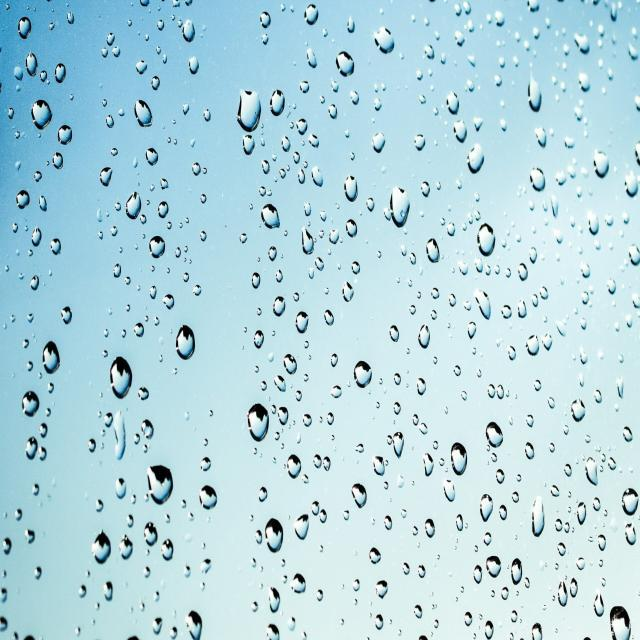raindrop: (144, 462, 178, 510), (109, 353, 134, 404), (172, 321, 200, 366), (235, 84, 261, 132), (246, 398, 270, 450), (448, 433, 471, 486), (388, 182, 412, 231), (608, 602, 638, 640), (262, 512, 284, 560), (528, 492, 548, 541), (370, 21, 396, 58), (112, 407, 128, 467), (30, 95, 54, 134), (42, 335, 64, 377), (475, 218, 498, 258), (89, 526, 112, 566), (464, 140, 488, 178), (292, 508, 314, 548), (133, 94, 155, 132), (353, 356, 375, 394), (566, 390, 590, 424), (618, 482, 640, 519), (483, 418, 506, 453), (526, 72, 545, 114), (473, 288, 494, 326), (333, 48, 358, 78), (19, 386, 41, 420), (476, 490, 496, 527), (584, 452, 600, 498), (591, 146, 611, 182), (184, 604, 204, 640), (260, 201, 282, 233), (552, 312, 570, 351), (266, 580, 284, 618), (124, 190, 144, 224), (350, 479, 368, 516), (118, 529, 136, 565), (484, 550, 504, 582), (510, 550, 526, 590), (590, 588, 610, 620), (197, 483, 219, 512), (527, 163, 548, 193), (342, 170, 360, 204), (56, 118, 75, 150), (422, 447, 437, 487), (391, 427, 408, 462), (572, 30, 592, 59), (289, 570, 309, 599), (424, 234, 442, 266), (300, 222, 316, 258), (142, 518, 160, 550), (372, 574, 390, 606), (622, 517, 640, 549), (623, 166, 638, 204), (532, 122, 550, 153), (270, 84, 286, 118), (525, 328, 541, 362), (294, 307, 312, 337), (57, 302, 76, 330), (415, 370, 432, 401), (452, 118, 470, 147), (142, 143, 162, 169), (556, 574, 570, 611), (444, 88, 462, 116), (366, 542, 384, 570), (287, 452, 303, 483), (440, 476, 457, 505), (418, 320, 432, 355), (303, 42, 319, 72), (586, 207, 602, 237), (148, 236, 168, 260), (272, 289, 286, 323), (369, 126, 387, 152), (282, 351, 300, 377), (277, 400, 291, 433), (574, 498, 588, 531), (566, 568, 580, 601), (527, 617, 547, 640), (471, 560, 486, 590), (310, 162, 326, 190), (24, 434, 40, 462), (372, 452, 388, 480), (522, 440, 538, 468), (17, 14, 34, 40), (329, 378, 347, 402), (516, 260, 530, 290), (614, 376, 628, 406), (240, 131, 256, 157), (14, 188, 31, 212), (550, 192, 562, 226), (304, 3, 320, 28), (180, 18, 196, 43), (412, 128, 428, 153), (252, 326, 266, 354), (324, 304, 338, 332), (410, 596, 424, 624), (555, 536, 569, 564), (499, 298, 514, 324), (160, 536, 174, 563), (466, 318, 479, 347), (344, 217, 360, 240), (30, 222, 44, 248), (627, 239, 640, 267), (26, 48, 38, 78), (99, 164, 114, 188), (160, 292, 176, 314), (54, 60, 68, 85), (300, 411, 314, 436), (576, 72, 592, 93), (296, 160, 308, 188), (28, 270, 42, 294), (250, 266, 262, 294), (372, 612, 386, 636), (390, 396, 405, 418), (517, 294, 528, 324), (419, 177, 432, 202), (200, 452, 213, 477), (115, 474, 127, 501), (422, 42, 438, 62), (454, 30, 470, 50), (187, 54, 200, 78), (424, 515, 436, 541), (486, 378, 497, 406), (134, 57, 150, 76), (306, 130, 321, 150), (156, 200, 171, 220), (526, 408, 537, 435), (49, 237, 63, 258), (132, 318, 146, 339), (12, 58, 24, 82), (52, 148, 64, 172), (454, 510, 466, 534), (462, 606, 474, 630), (38, 191, 51, 213), (342, 282, 355, 304), (389, 322, 402, 344), (102, 407, 112, 435), (417, 559, 428, 584), (279, 132, 292, 153), (524, 0, 543, 14), (294, 116, 308, 135), (150, 71, 162, 93), (329, 226, 341, 248), (86, 434, 97, 458), (191, 282, 204, 302), (606, 272, 616, 298), (158, 175, 171, 194), (260, 10, 272, 30), (350, 259, 362, 279), (313, 452, 323, 476), (105, 112, 116, 133), (383, 511, 394, 532), (450, 284, 458, 312), (432, 282, 442, 304), (466, 52, 478, 70), (292, 150, 304, 168), (506, 343, 518, 361), (32, 165, 44, 182), (260, 156, 270, 176), (366, 194, 376, 214), (190, 160, 200, 180), (401, 561, 412, 579), (111, 264, 123, 280), (106, 29, 116, 47), (65, 8, 75, 24), (39, 69, 48, 84), (278, 166, 287, 180), (48, 18, 56, 32), (100, 45, 108, 59), (112, 44, 120, 58), (260, 32, 269, 44)
